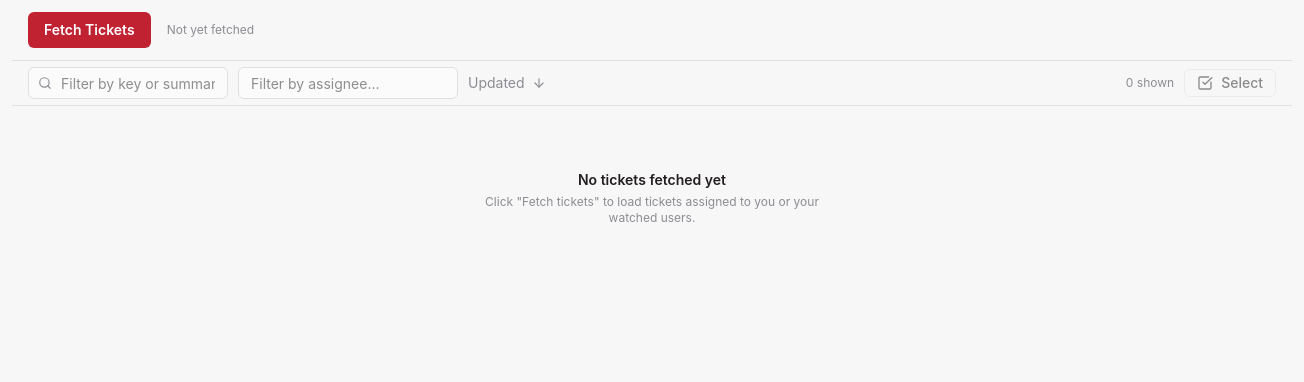
Test: TicketListPage — pagination truncation warning › shows the truncation warning banner when fetch returns truncated=true
The width and height of the screenshot is (1304, 382).
Click the button titled "Refresh (F5)": (89, 30) [28,12,151,48]
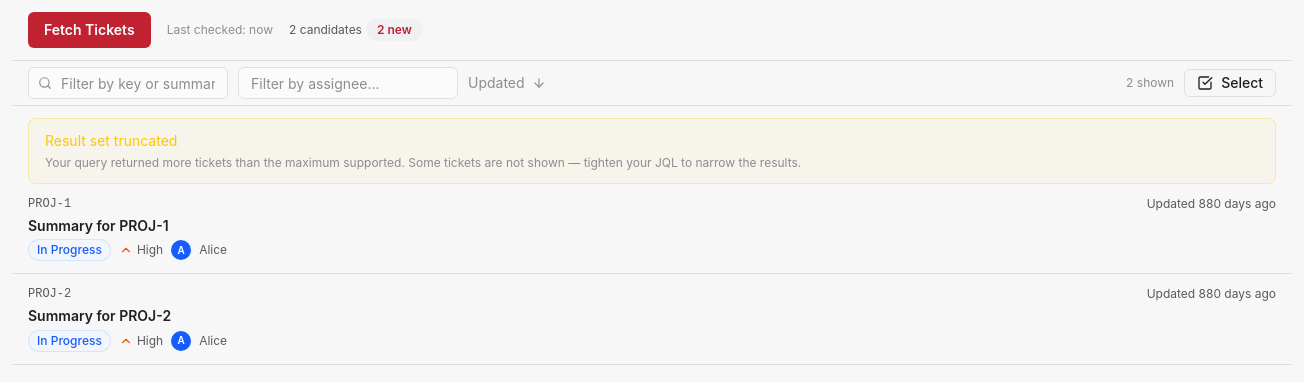
Result: the message with test id "truncation-warning" is shown at [28,118,1276,184]
Result: the message with test id "truncation-warning" shows "truncat" at [45,132,177,149]
